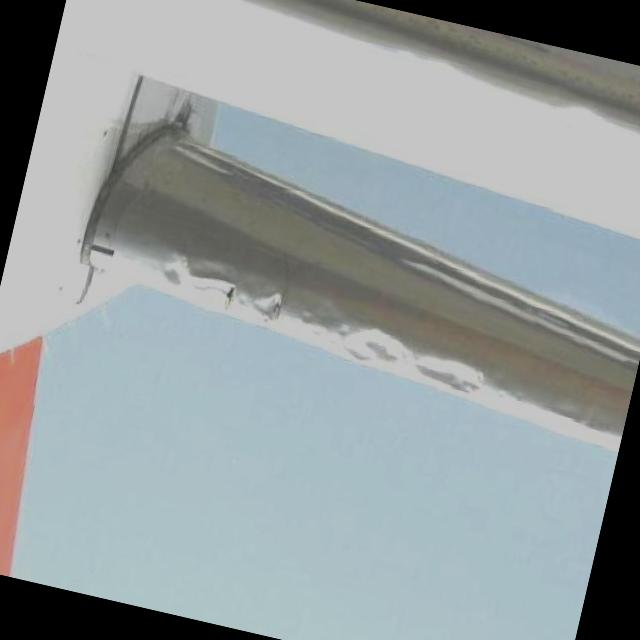dent: (411, 346, 496, 399), (336, 323, 412, 374), (248, 284, 286, 322), (160, 254, 192, 290), (296, 304, 322, 328)
